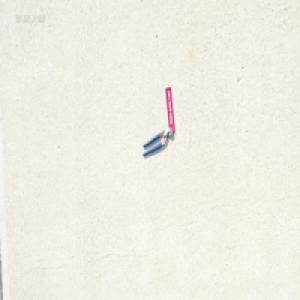Label: (165, 84, 175, 131)
Pliers: (142, 125, 173, 156)
